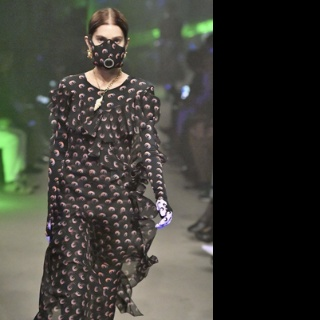with_mask: (89, 32, 125, 69)
